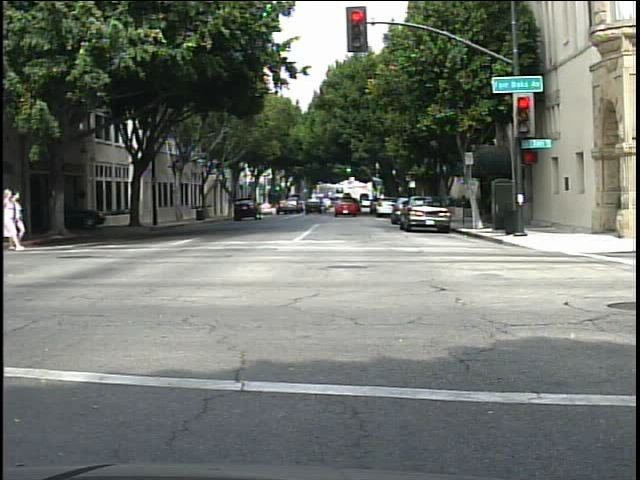car: (399, 193, 451, 231), (334, 195, 364, 217), (234, 197, 257, 219)
